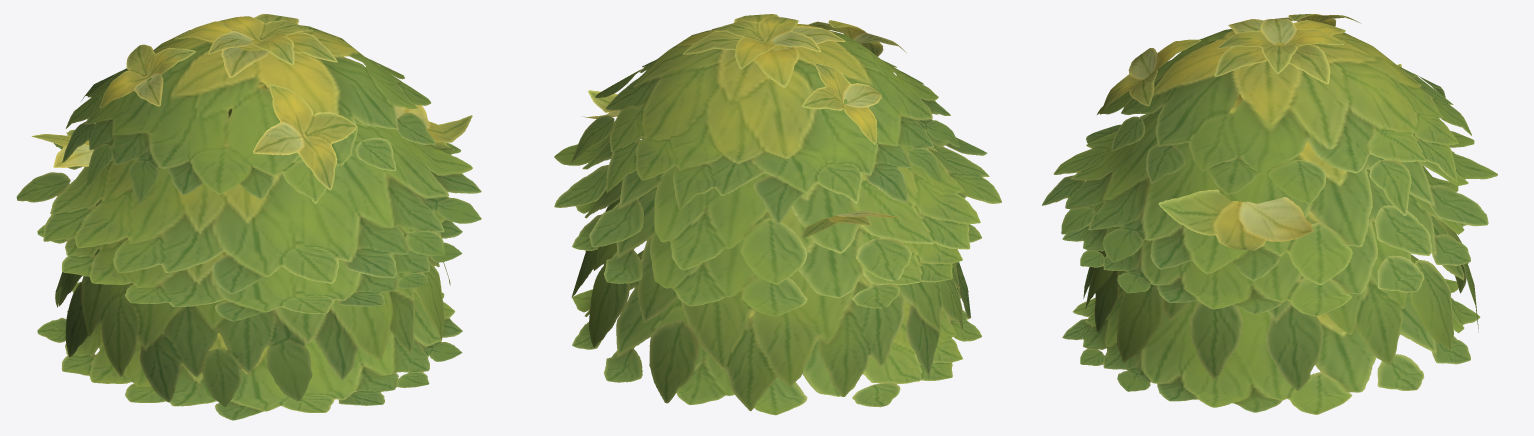
File: Bush10.fbx
The picture shows the model from 3 angles, left to right: view 1: azimuth 30°, elevation 25°; view 2: azimuth 150°, elevation 25°; view 3: azimuth 270°, elevation 25°; orthographic projection.
Visible parts, largest first — view 1: LysimachiaBush.005; view 2: LysimachiaBush.005; view 3: LysimachiaBush.005.
Part boxes in pixels (x1=…): LysimachiaBush.005: x1=16, y1=14, x2=481, y2=420; LysimachiaBush.005: x1=554, y1=14, x2=1001, y2=415; LysimachiaBush.005: x1=1042, y1=14, x2=1497, y2=414.
Bounding box in the file's own units: 127 × 86.37 × 127.
